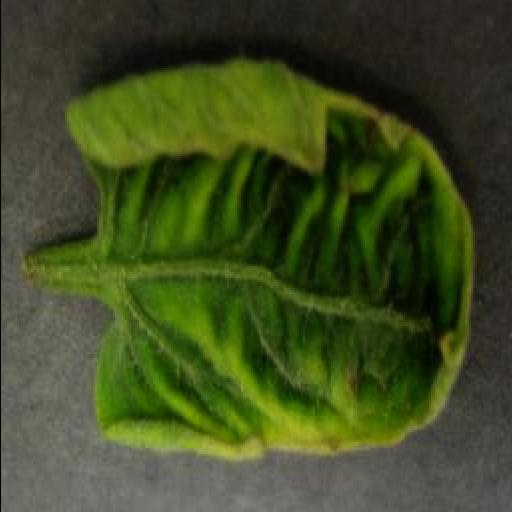disease_tomato: (60, 58, 478, 460)
